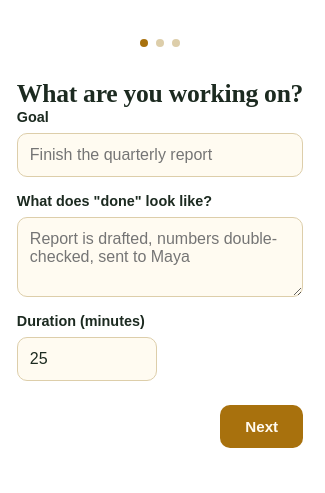
Scenario: OnboardingFlow › blocks advancing past the goal step until required fields are filled
The width and height of the screenshot is (325, 493).
Click the button "Next": (262, 426) [220,404,303,448]
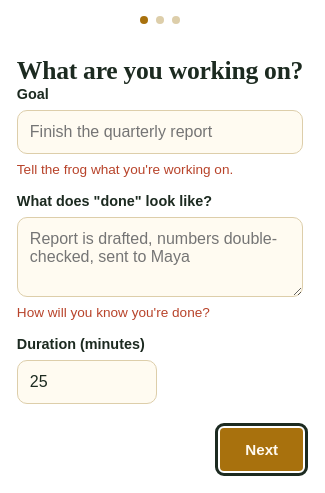
Expected: the text "Tell the frog what you're working on." is shown, [17,162,233,176]
